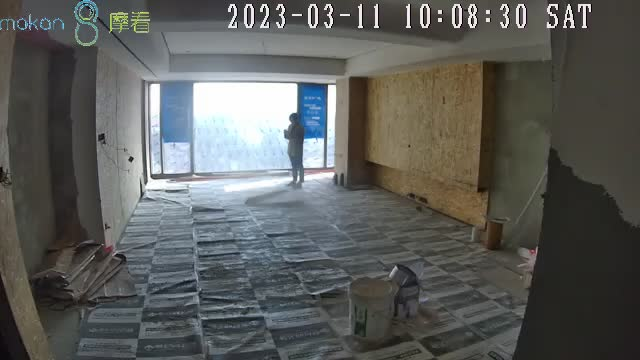people: (283, 111, 306, 184)
window: (146, 80, 337, 180)
